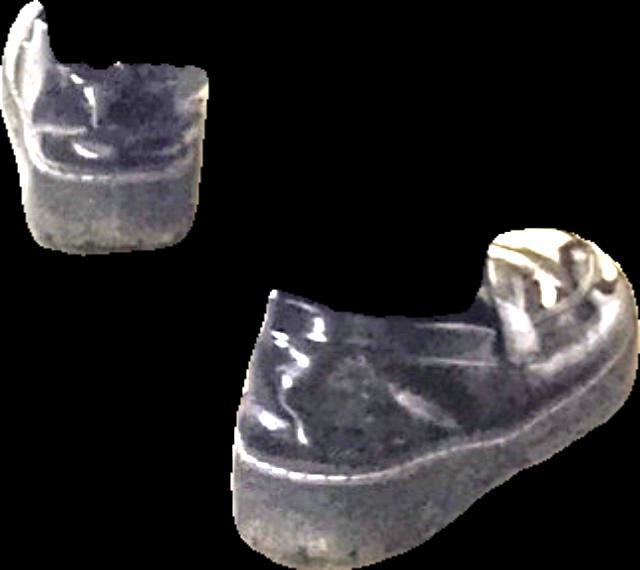blackshoes: (231, 229, 639, 569)
